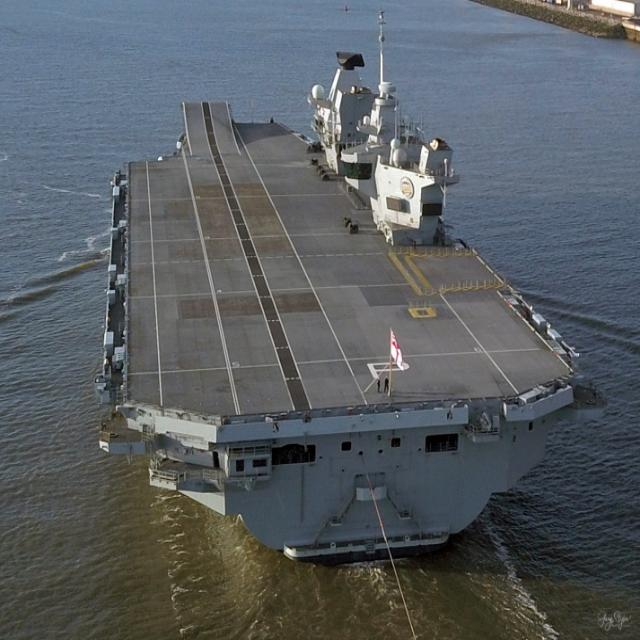Portanaves: (95, 2, 584, 573)
